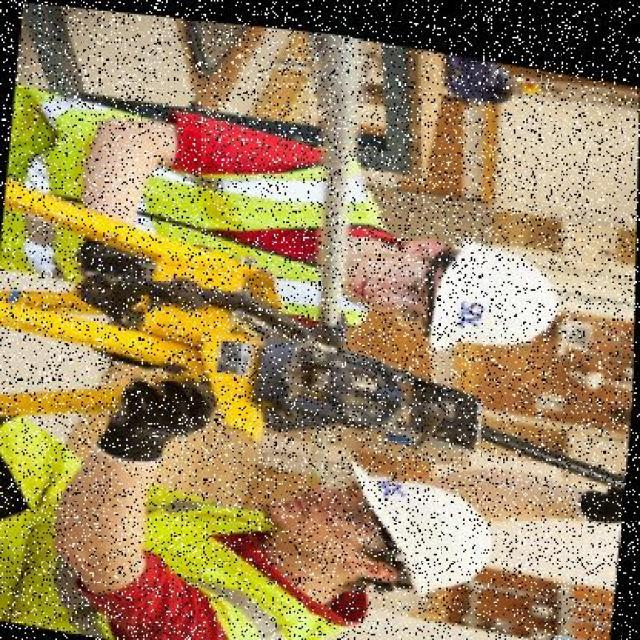helmet: (331, 445, 497, 599), (417, 220, 569, 363)
vest: (0, 108, 381, 325), (0, 446, 312, 638)
